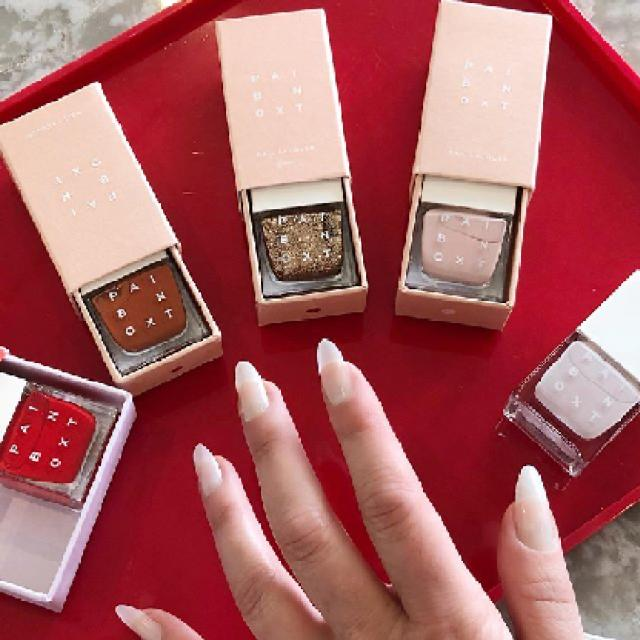Nail: (514, 465, 560, 552), (316, 339, 351, 406), (235, 361, 269, 421), (115, 605, 161, 640), (194, 444, 222, 498)
